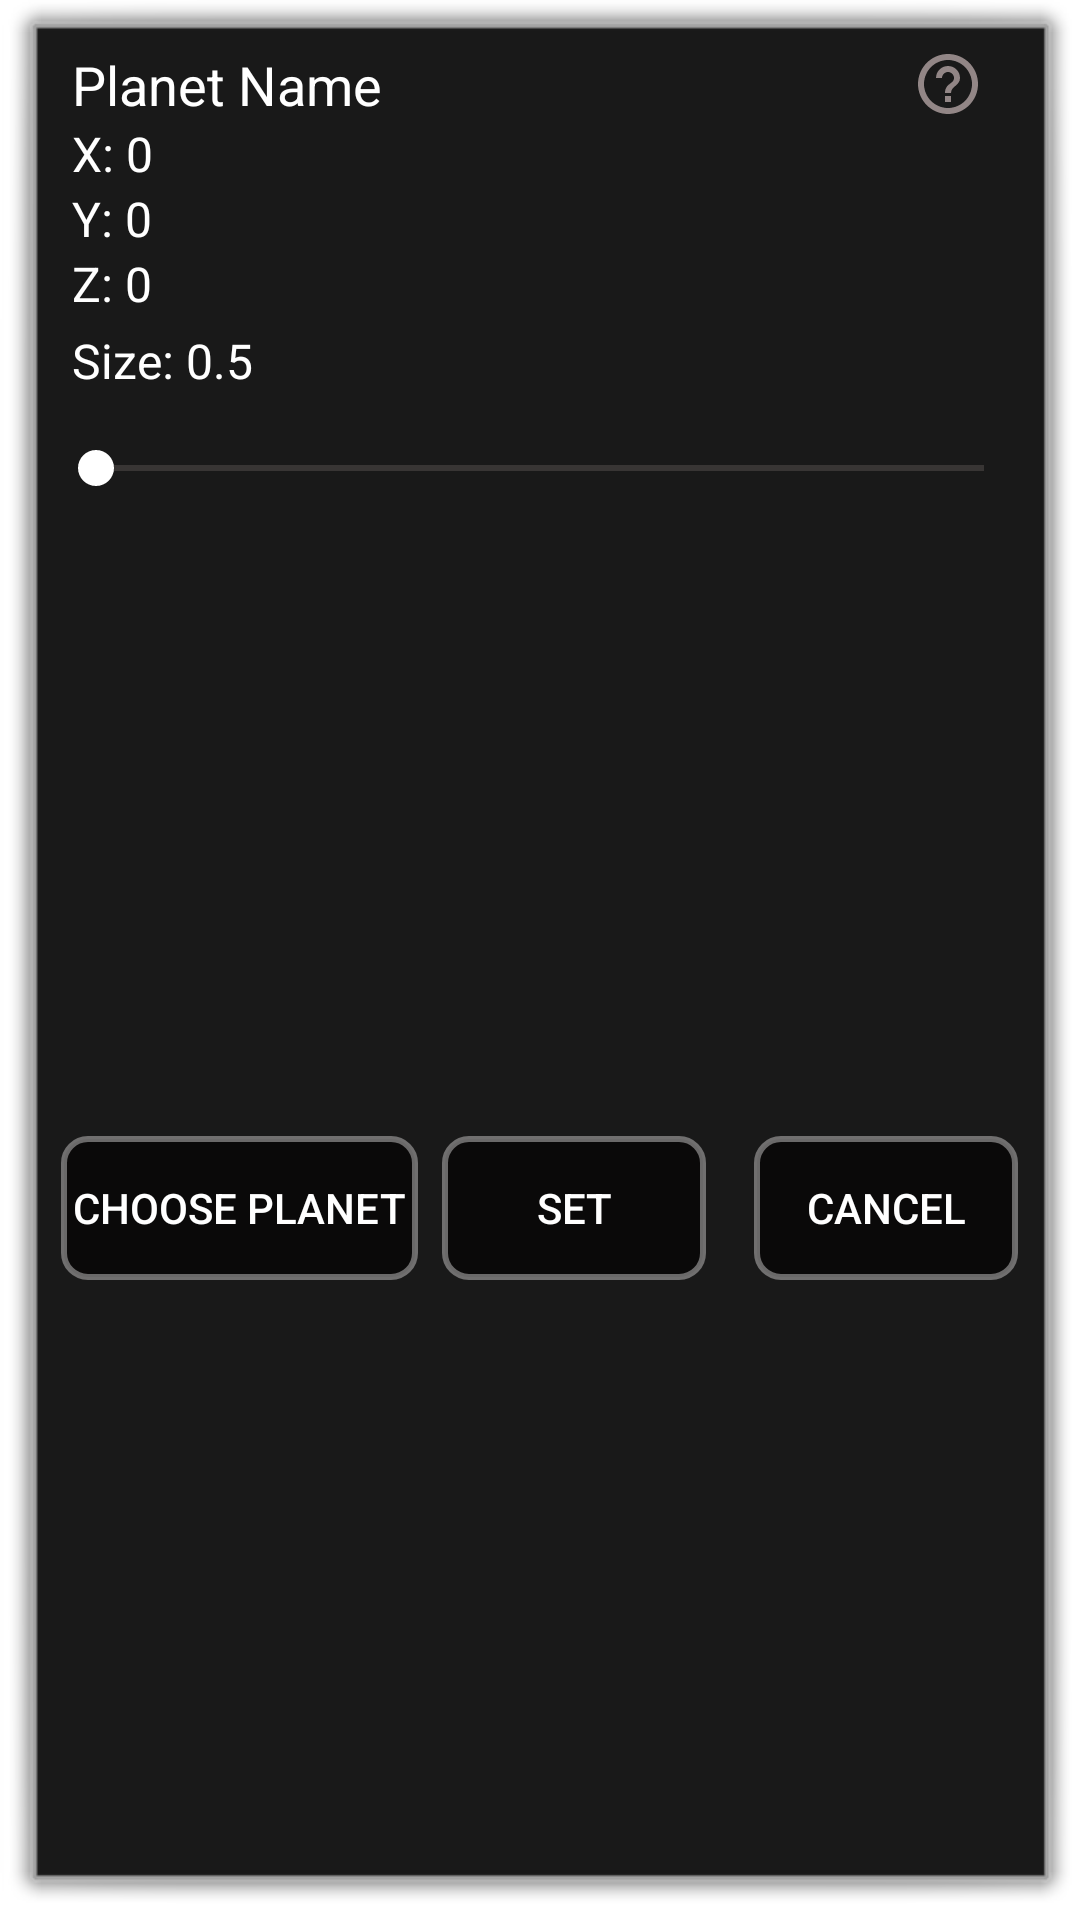

Locate icon controls on the screen. Image size 1080w x 1920h, boxes as (x1, y1, x2, y2).
help: (918, 54, 978, 114)
